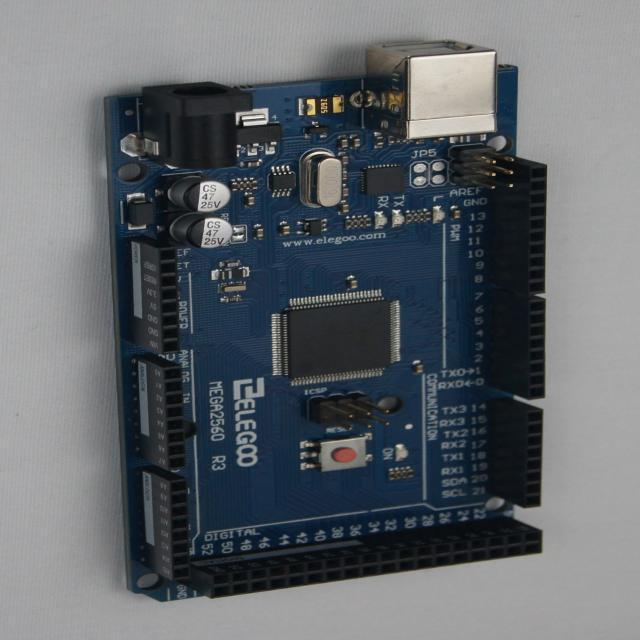Arduino Mega 2560 -Blue-: (106, 42, 547, 602)
